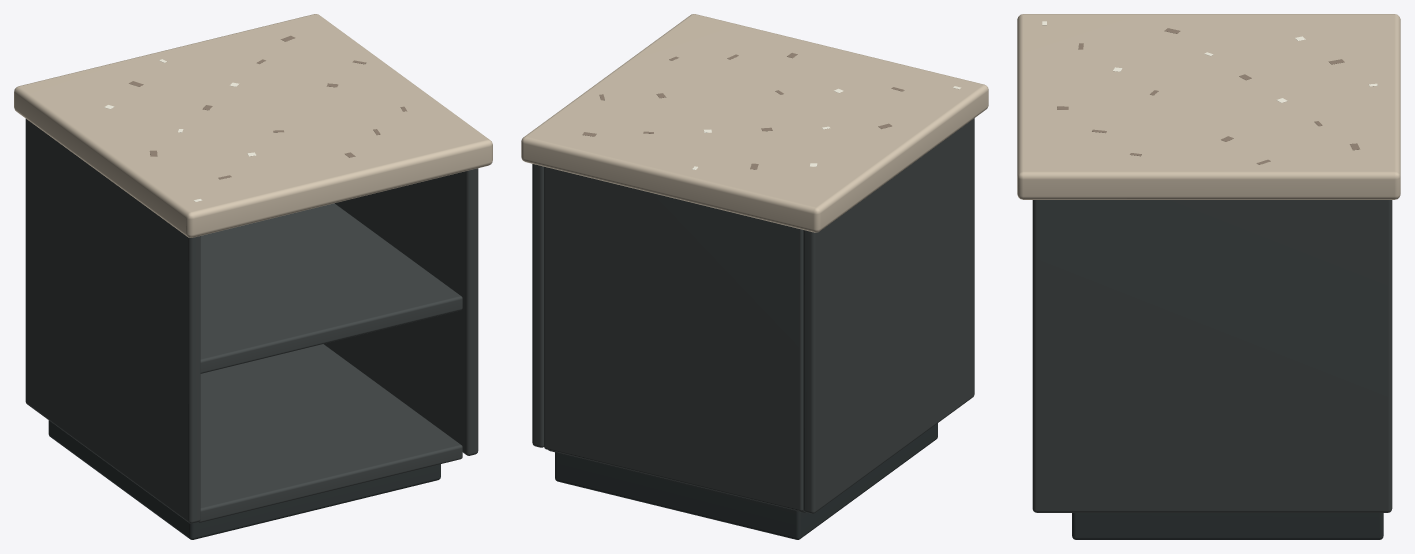
The model's file is kitchenModernFloorShelfCharcoal.glb.
3 renders of one model, left to right at view 1: azimuth 30°, elevation 25°; view 2: azimuth 150°, elevation 25°; view 3: azimuth 270°, elevation 25°, orthographic. The views are drawn at different scales.
Visible parts, largest first — view 1: Thick stone worktop, Open shelf side, Shelf, Shelf.001, Open shelf side.001, Recessed kitchen plinth; view 2: Open shelf back, Thick stone worktop, Open shelf side, Recessed kitchen plinth, Open shelf side.001; view 3: Open shelf side.001, Thick stone worktop, Recessed kitchen plinth.
Part boxes in pixels (left/top/right/bottom): Thick stone worktop: left=14, top=14, right=492, bottom=237; Open shelf side: left=25, top=119, right=200, bottom=523; Shelf: left=198, top=344, right=462, bottom=522; Shelf.001: left=200, top=203, right=462, bottom=373; Open shelf side.001: left=324, top=168, right=478, bottom=455; Recessed kitchen plinth: left=48, top=420, right=440, bottom=539; Open shelf back: left=544, top=166, right=803, bottom=511; Thick stone worktop: left=521, top=14, right=988, bottom=232; Open shelf side: left=803, top=118, right=974, bottom=513; Recessed kitchen plinth: left=555, top=423, right=937, bottom=539; Open shelf side.001: left=532, top=164, right=543, bottom=447; Open shelf side.001: left=1032, top=200, right=1392, bottom=512; Thick stone worktop: left=1017, top=14, right=1400, bottom=199; Recessed kitchen plinth: left=1072, top=513, right=1383, bottom=539.
Size of the model in its own units: 1.12 by 1.23 by 1.12.
